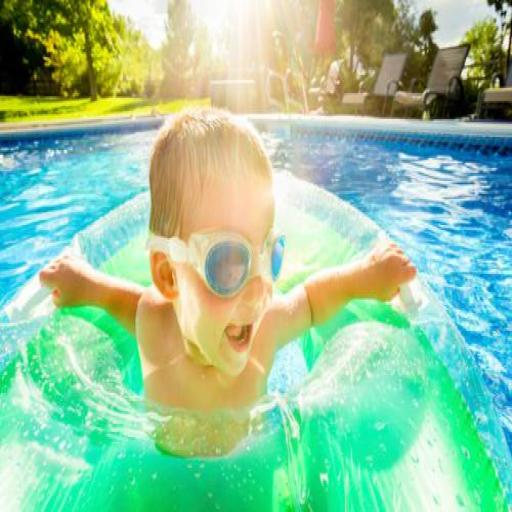swimming: (37, 104, 421, 462)
